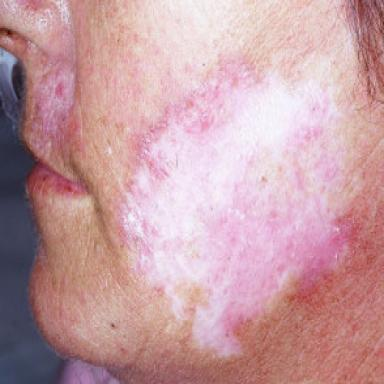Lupus-Erythematosus-Chronicus-Discoides: (123, 64, 350, 355), (31, 63, 75, 154)
